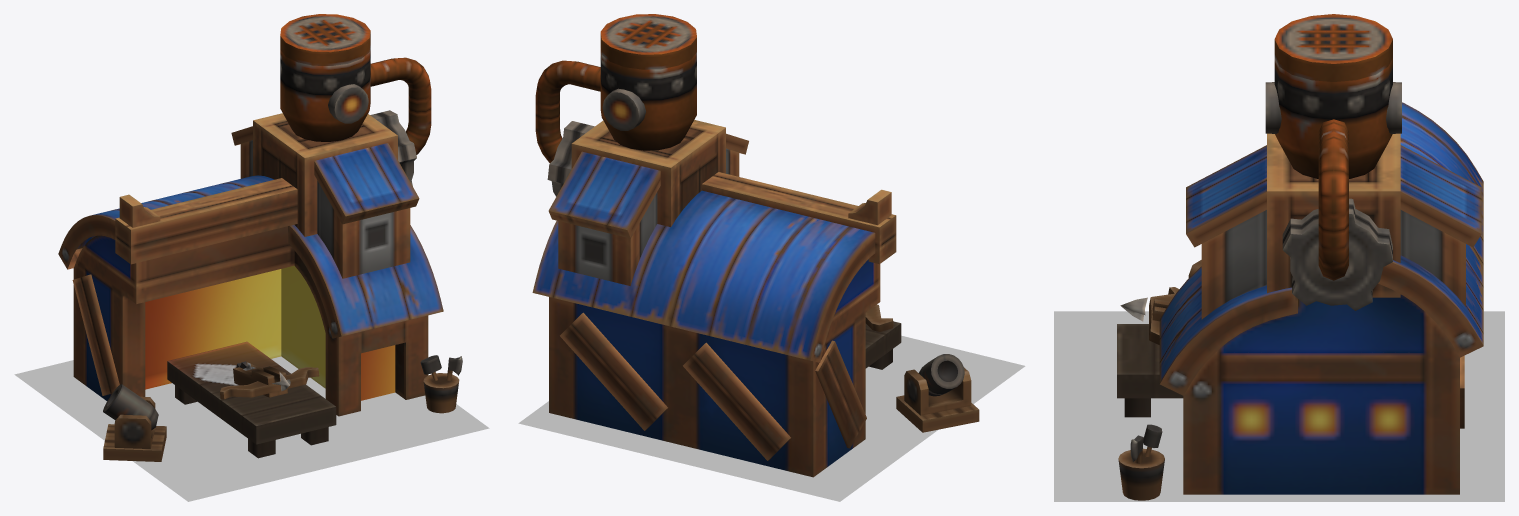
The model's file is C_MechanicShop_LV2.fbx.
3 views of the same model, side by side, from view 1: azimuth 30°, elevation 25°; view 2: azimuth 150°, elevation 25°; view 3: azimuth 270°, elevation 25° (orthographic). The views are drawn at different scales.
Parts seen in each view (by area): view 1: Mechanic_LV02_0_mesh, Mechanic_LV02_1_mesh; view 2: Mechanic_LV02_0_mesh, Mechanic_LV02_1_mesh; view 3: Mechanic_LV02_0_mesh, Mechanic_LV02_1_mesh.
Part boxes in pixels (x1=…): Mechanic_LV02_0_mesh: x1=58, y1=14, x2=462, y2=461; Mechanic_LV02_1_mesh: x1=14, y1=356, x2=489, y2=501; Mechanic_LV02_0_mesh: x1=532, y1=14, x2=979, y2=477; Mechanic_LV02_1_mesh: x1=518, y1=335, x2=1025, y2=501; Mechanic_LV02_0_mesh: x1=1117, y1=14, x2=1483, y2=500; Mechanic_LV02_1_mesh: x1=1054, y1=311, x2=1504, y2=501.
Bounding box in the file's own units: 148 × 125 × 120.
